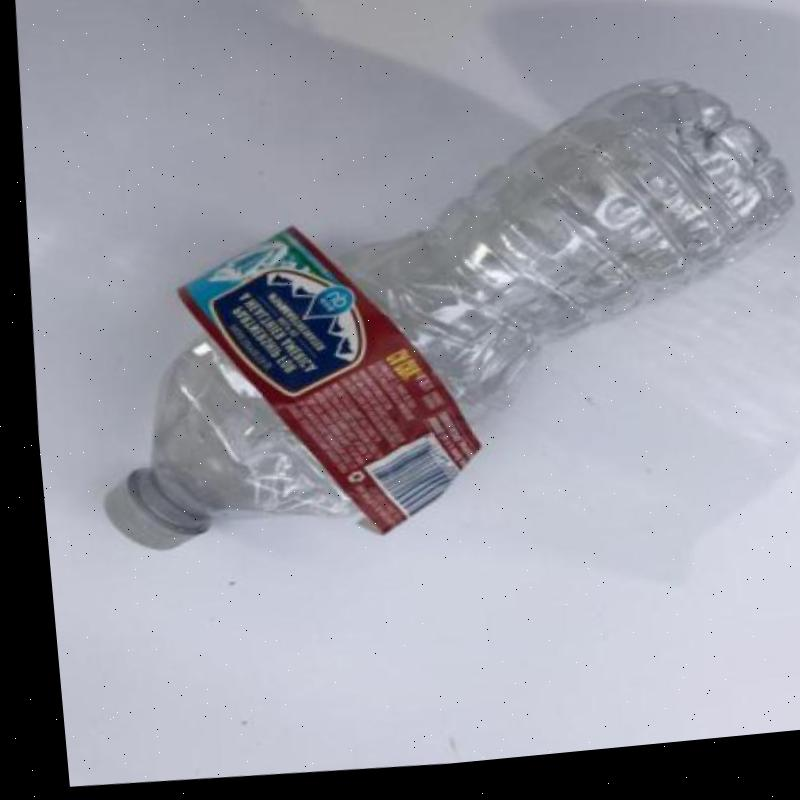botella: (66, 61, 800, 582)
